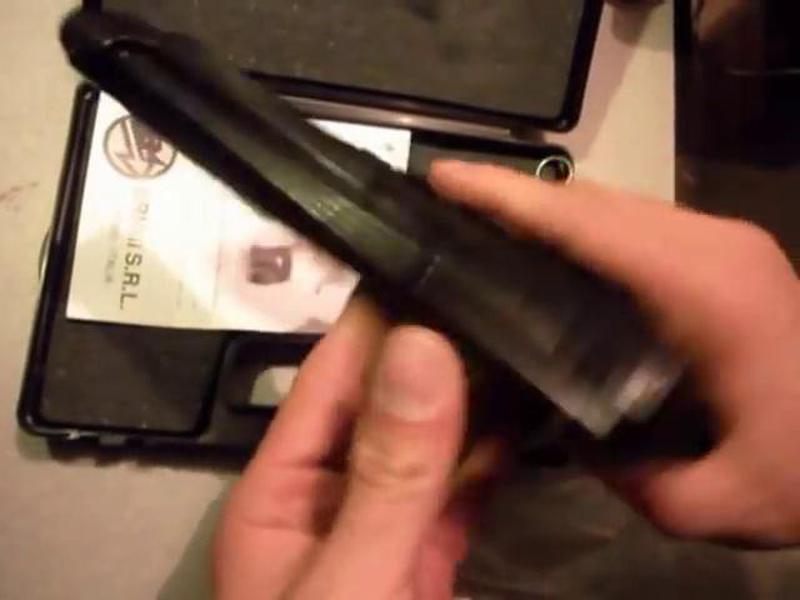Pistola: (61, 4, 717, 457)
